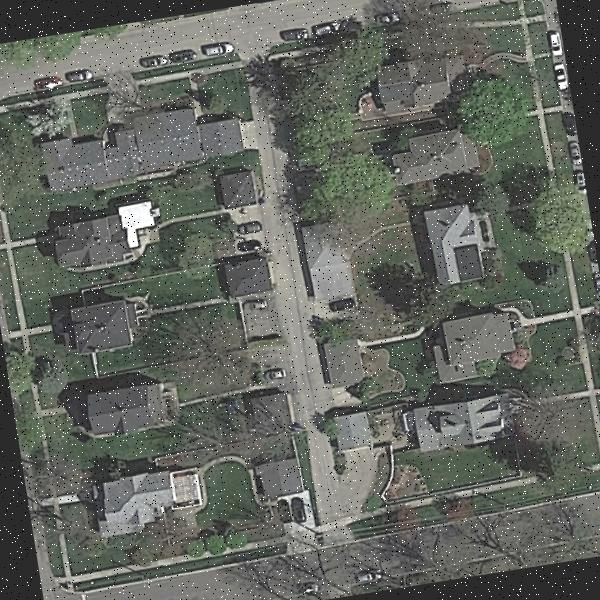Buildings: (36, 102, 248, 199), (62, 201, 166, 277), (436, 312, 516, 386), (412, 398, 508, 456), (86, 376, 168, 442), (391, 126, 475, 186), (434, 198, 488, 288), (74, 296, 138, 362), (369, 62, 448, 114), (102, 474, 176, 525), (224, 252, 276, 294), (224, 157, 264, 211), (251, 460, 305, 500)
